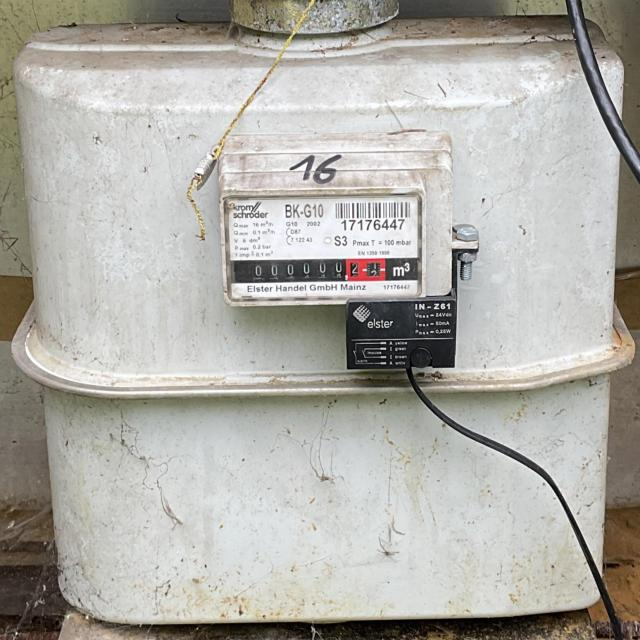gaz_meter: (225, 195, 419, 294)
indication: (233, 258, 389, 283)
